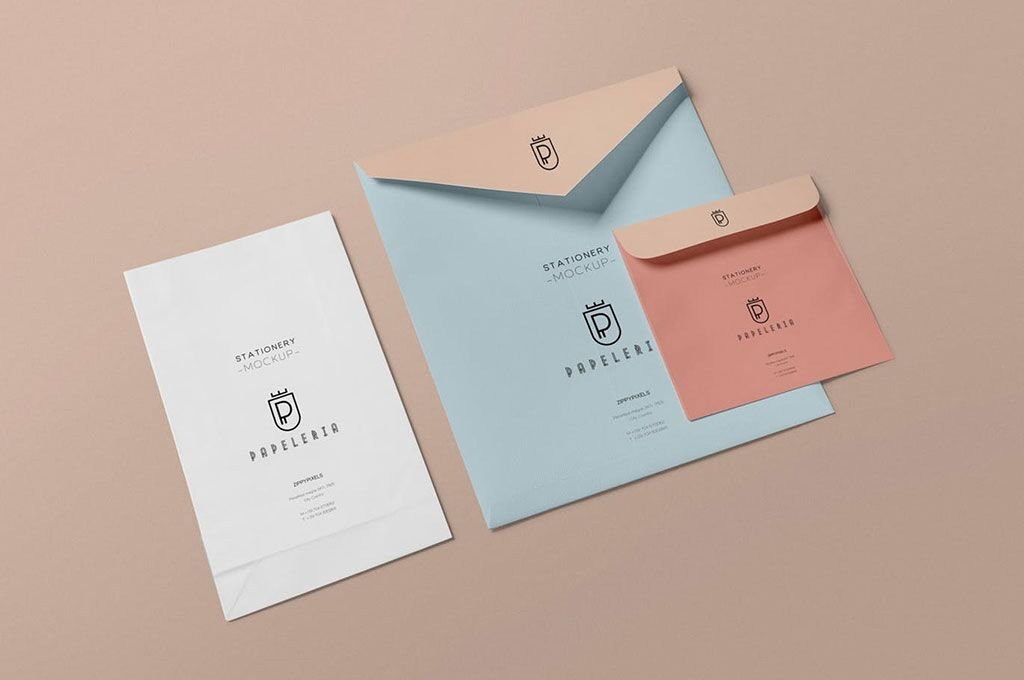paper: (350, 65, 897, 535), (119, 208, 455, 624)
